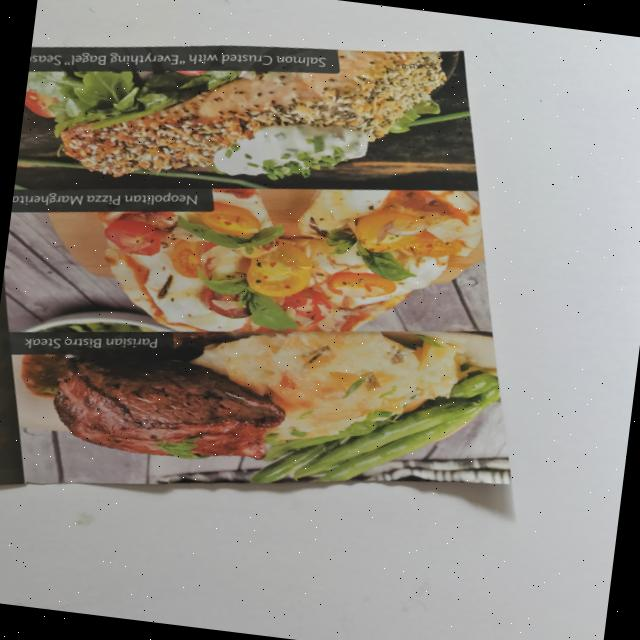paper: (0, 0, 564, 557)
